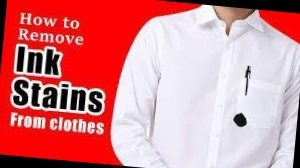ink: (232, 113, 248, 127)
